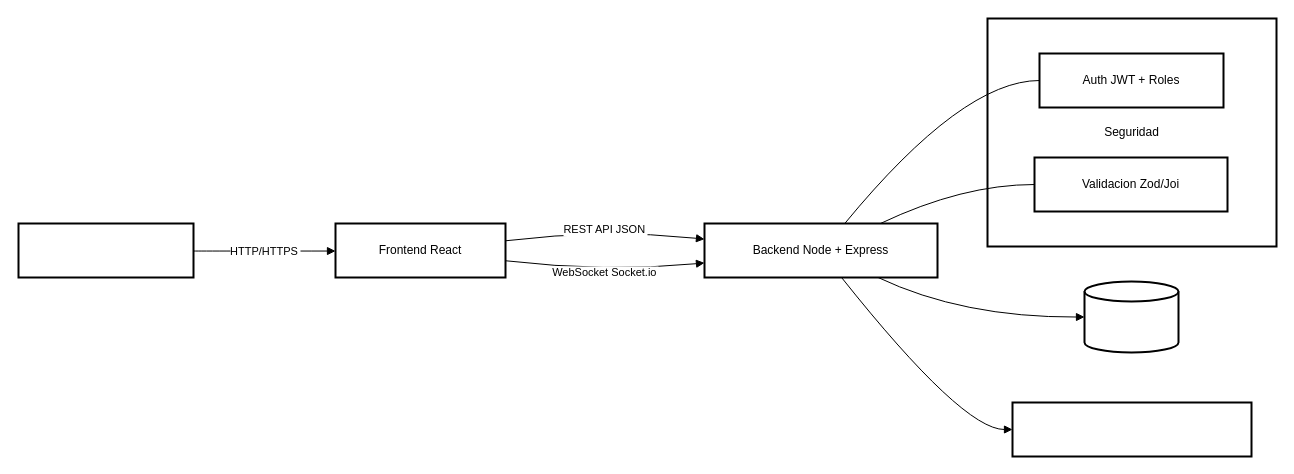
The diagram is 1294 pixels wide and 474 high, and some of its shapes have lost their labels. The centre of each missing label's shape, as x and y in pixels:
"MongoDB" belongs at point 1131,316.
"Storage opcional uploads" belongs at point 1131,429.
"Usuario Browser" belongs at point 105,250.
